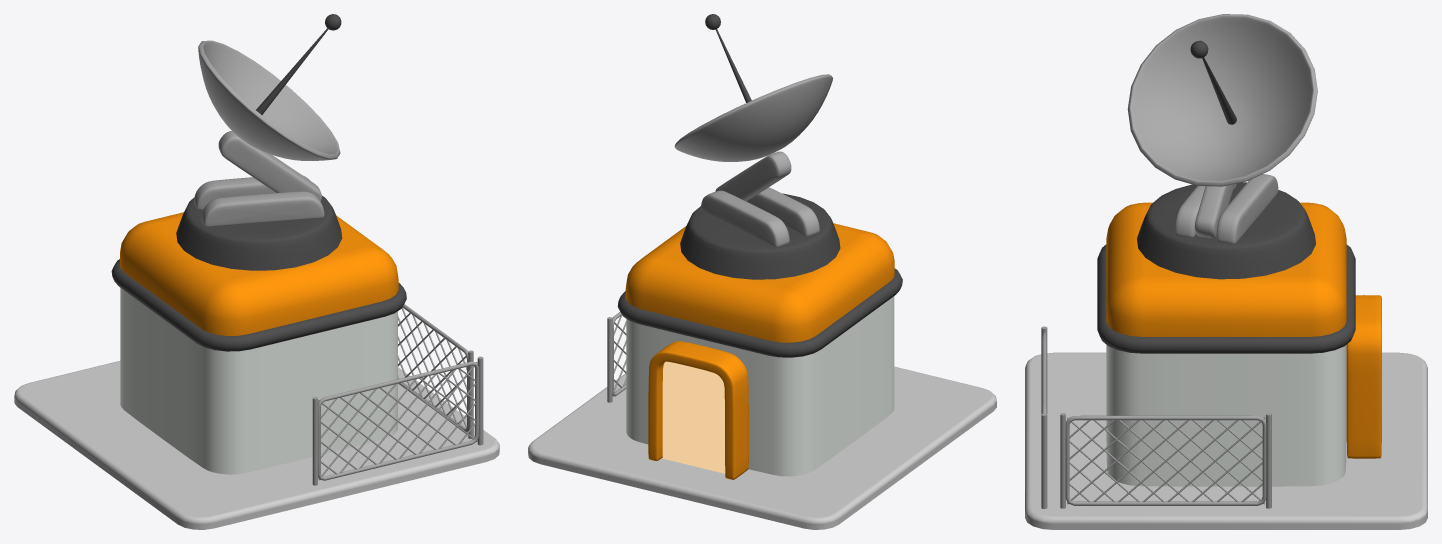
Rendered from RadioStation.glb.
The picture shows the model from 3 angles, left to right: view 1: azimuth 30°, elevation 25°; view 2: azimuth 150°, elevation 25°; view 3: azimuth 270°, elevation 25°; orthographic projection. The views are drawn at different scales.
Visible parts, largest first — view 1: Plane, Plane.005, Plane.002, Circle, Circle.002, Plane.001, Plane.006, Plane.011, Plane.007, Plane.012, Plane.010, Plane.009 (+2 smaller); view 2: Plane.005, Plane, Plane.002, Circle.002, Circle, Plane.003, Plane.004, Plane.001, Plane.006, Plane.007; view 3: Plane.005, Plane, Circle, Plane.002, Circle.002, Plane.001, Plane.004, Plane.010, Plane.006, Plane.013, Plane.007, Plane.008 (+2 smaller).
Part boxes in pixels (x1,y1,x2,y2): Plane: (120,288,397,474); Plane.005: (14,361,499,529); Plane.002: (120,212,398,335); Circle: (198,40,340,160); Circle.002: (176,195,342,270); Plane.001: (111,259,406,351); Plane.006: (194,176,324,226); Plane.011: (318,362,477,480); Plane.007: (218,131,321,201); Plane.012: (318,361,478,480); Plane.010: (398,307,468,428); Plane.009: (312,356,483,485); Plane.005: (528,366,996,529); Plane: (626,296,894,476); Plane.002: (625,223,894,342); Circle.002: (680,193,840,279); Circle: (674,74,832,161); Plane.003: (662,361,725,473); Plane.004: (648,341,748,479); Plane.001: (617,268,902,357); Plane.006: (700,187,819,246); Plane.007: (715,151,791,201); Plane.005: (1025,352,1427,529); Plane: (1106,345,1346,486); Circle: (1127,14,1317,186); Plane.002: (1106,202,1346,336); Circle.002: (1137,182,1315,279); Plane.001: (1097,244,1355,353); Plane.004: (1346,295,1381,458); Plane.010: (1067,417,1265,504); Plane.006: (1174,174,1278,243); Plane.013: (1065,415,1266,505); Plane.007: (1195,184,1234,238); Plane.008: (1060,413,1271,508).
Size of the model in its own units: 5.25 by 6.39 by 5.33.
